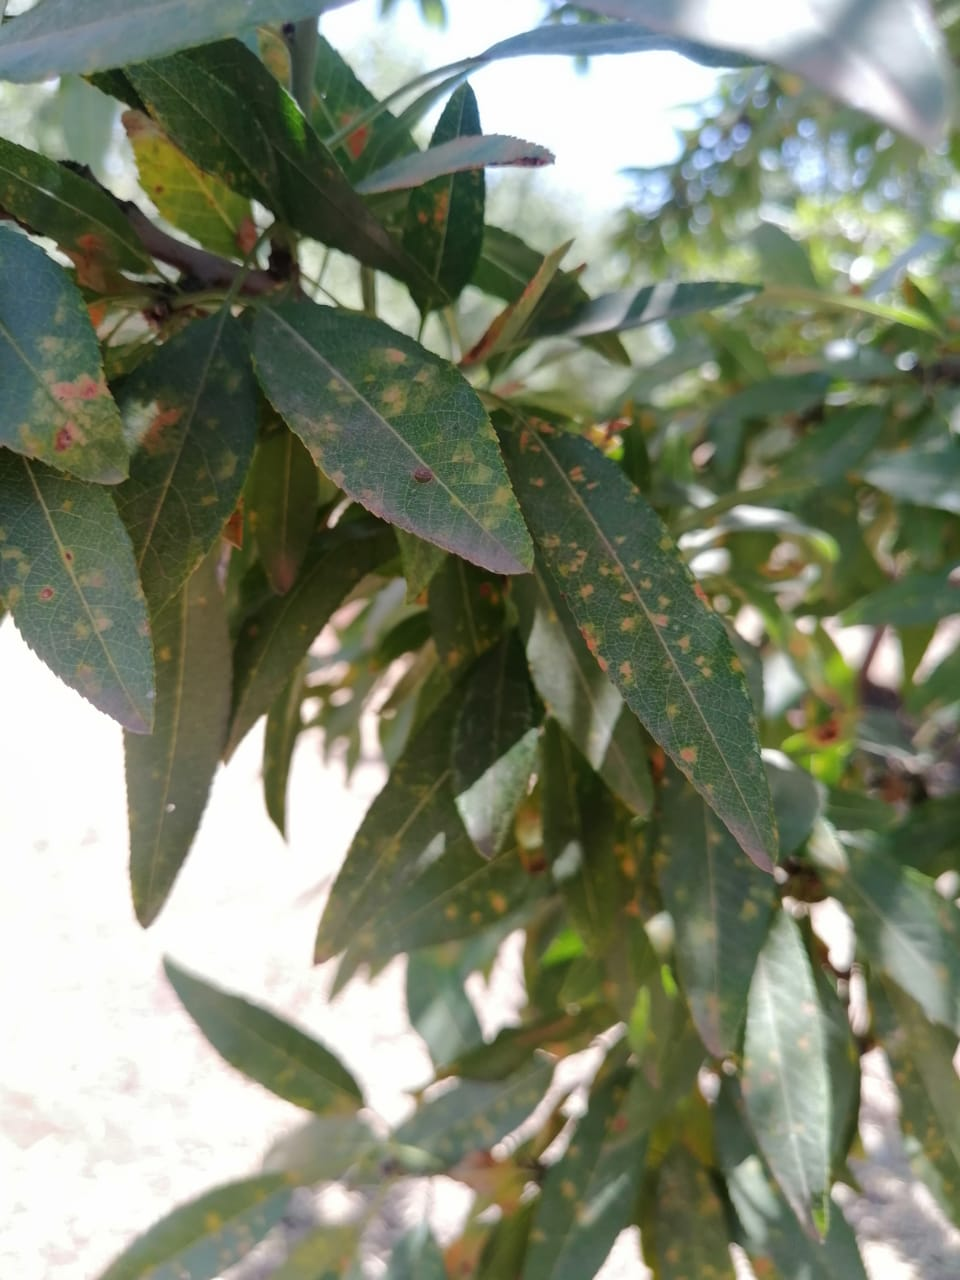polystigma: (491, 419, 779, 873), (255, 300, 533, 577), (68, 307, 259, 623), (1, 447, 157, 737), (1, 231, 136, 487), (115, 102, 260, 264), (401, 79, 492, 321)
